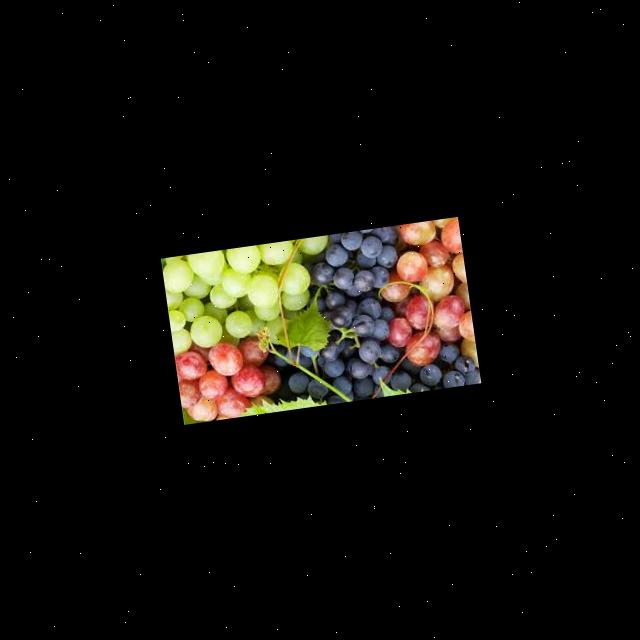grape: (160, 217, 479, 424)
